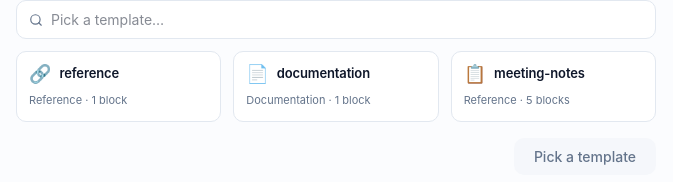
Test: TemplatePicker (ADR-0007) › filters templates by the search input
Expected: the button with test id "template-card-reference" is shown, [16,51,221,122]
Type "meet" into the field with test id "template-picker-search" at [347, 20], box [51,9,643,30]
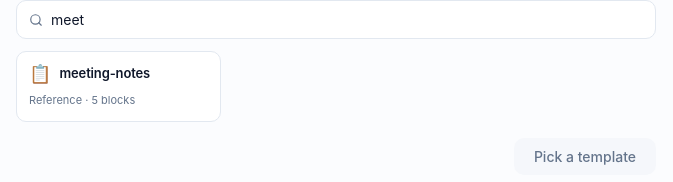
Expected: the button with test id "template-card-meeting-notes" is shown, [16,51,221,122]
Expected: the button with test id "template-card-reference" is gone
Expected: the button with test id "template-card-documentation" is gone
